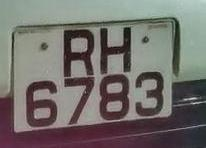3: (131, 67, 168, 121)
6: (19, 74, 65, 127)
7: (62, 74, 99, 127)
8: (96, 71, 133, 123)
H: (92, 20, 139, 78)
R: (57, 22, 102, 82)
